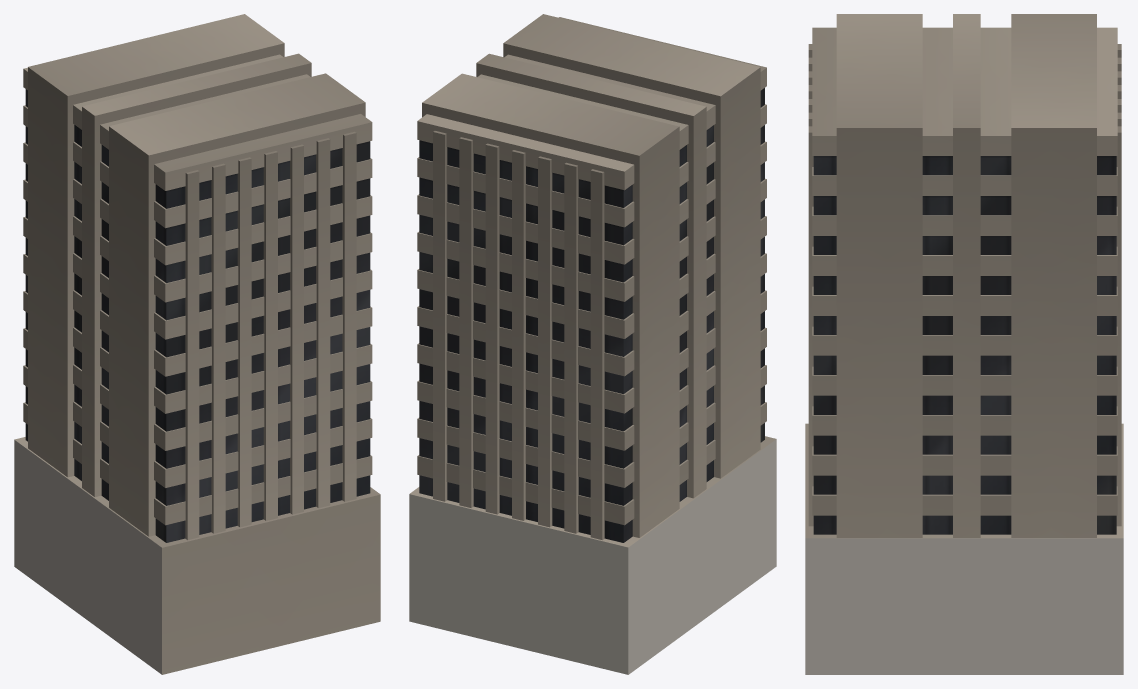
Rendered from Bld_Building_H_low.fbx.
3 views of the same model, side by side, from view 1: azimuth 30°, elevation 25°; view 2: azimuth 150°, elevation 25°; view 3: azimuth 270°, elevation 25° (orthographic). The views are drawn at different scales.
Parts seen in each view (by area): view 1: Bld_Building_H_low; view 2: Bld_Building_H_low; view 3: Bld_Building_H_low.
Part boxes in pixels (x1,y1,x2,y2): Bld_Building_H_low: (14, 14, 380, 674); Bld_Building_H_low: (409, 14, 776, 674); Bld_Building_H_low: (805, 14, 1123, 674).
Bounding box in the file's own units: 1800 × 4000 × 2110.
